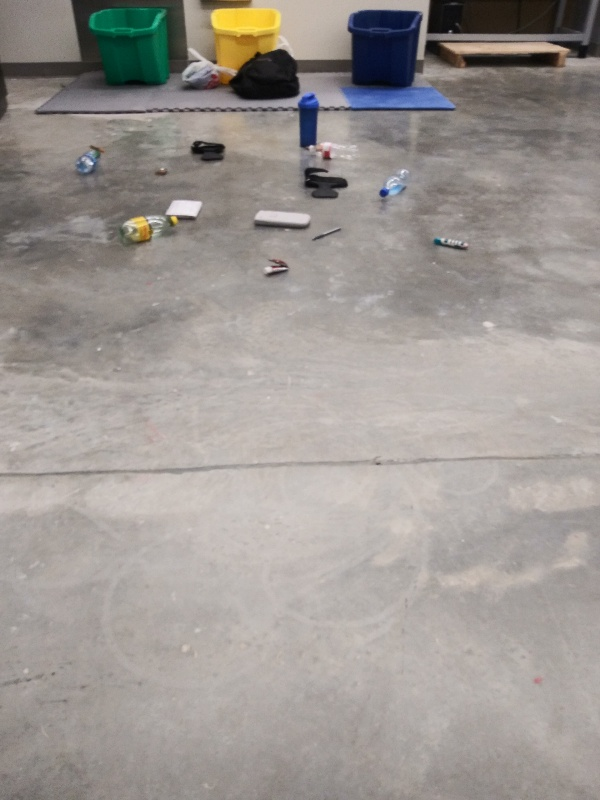bottle: (118, 211, 184, 246), (306, 139, 361, 164), (377, 165, 415, 201), (74, 147, 105, 178)
